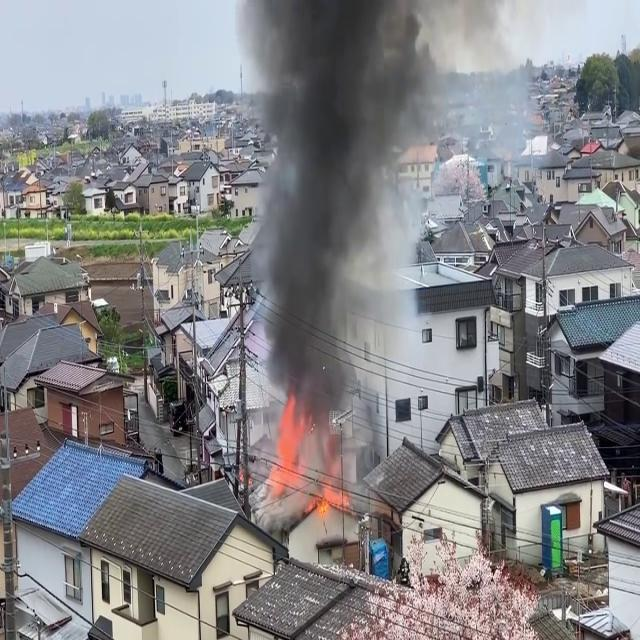Fire: (264, 398, 306, 500), (308, 477, 352, 517)
Smoke: (238, 0, 426, 472)
